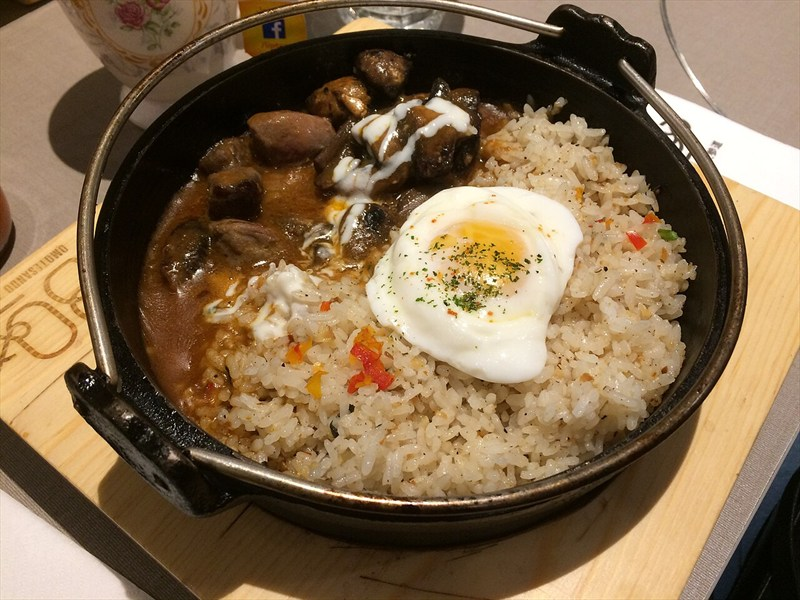Nasi Goreng: (57, 34, 723, 516)
